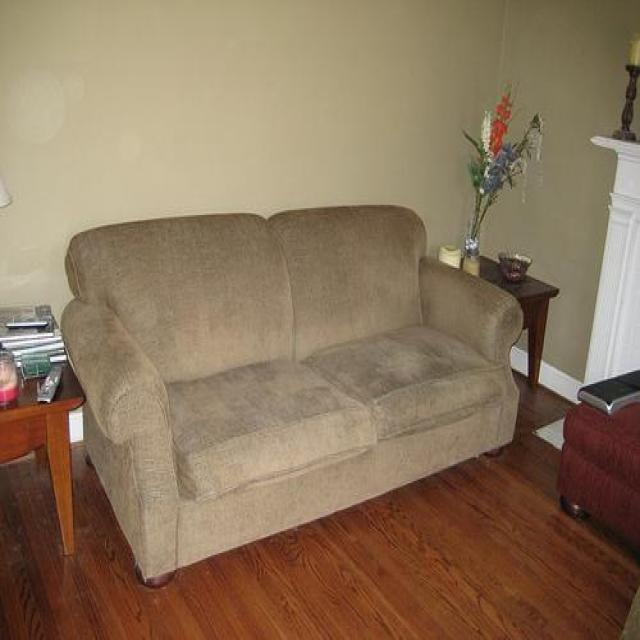sofa: (59, 196, 524, 591)
